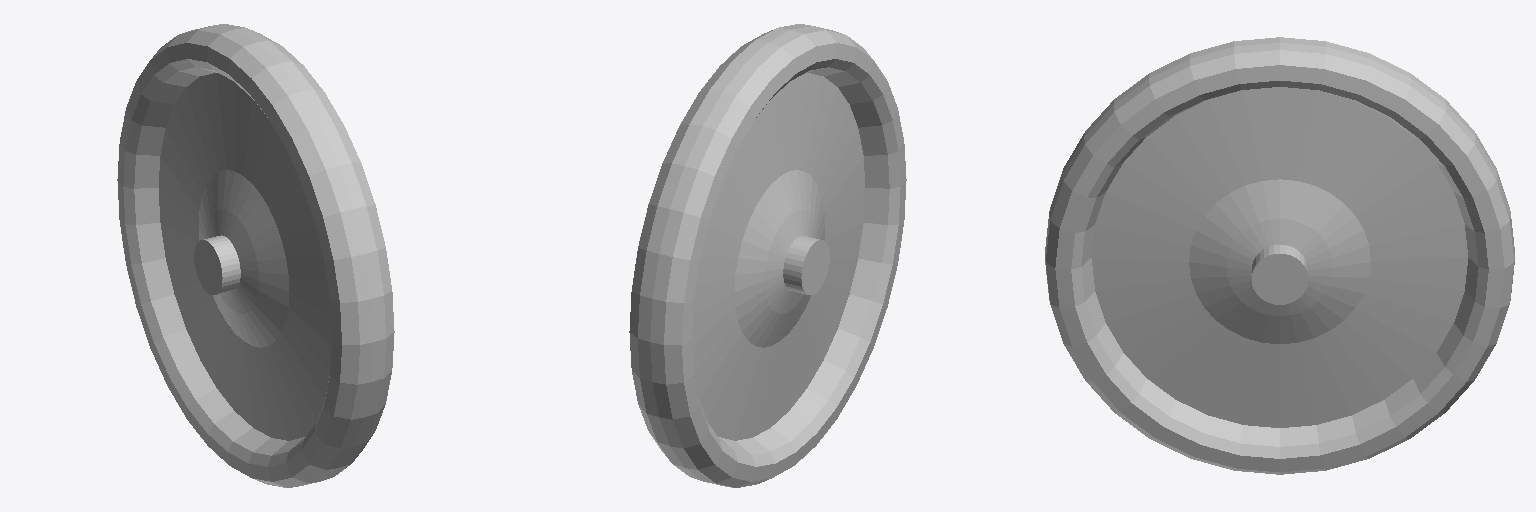
Rendered from wheel front.obj.
The picture shows the model from 3 angles: view 1: azimuth 30°, elevation 25°; view 2: azimuth 150°, elevation 25°; view 3: azimuth 270°, elevation 25°; orthographic projection.
Visible parts, largest first — view 1: wheel_front_Cylinder.003; view 2: wheel_front_Cylinder.003; view 3: wheel_front_Cylinder.003.
Part boxes in pixels (left/top/right/bottom): wheel_front_Cylinder.003: left=117, top=24, right=394, bottom=487; wheel_front_Cylinder.003: left=629, top=24, right=906, bottom=487; wheel_front_Cylinder.003: left=1045, top=37, right=1514, bottom=474.
Bounding box in the file's own units: 0.2762 × 1.18 × 1.18.